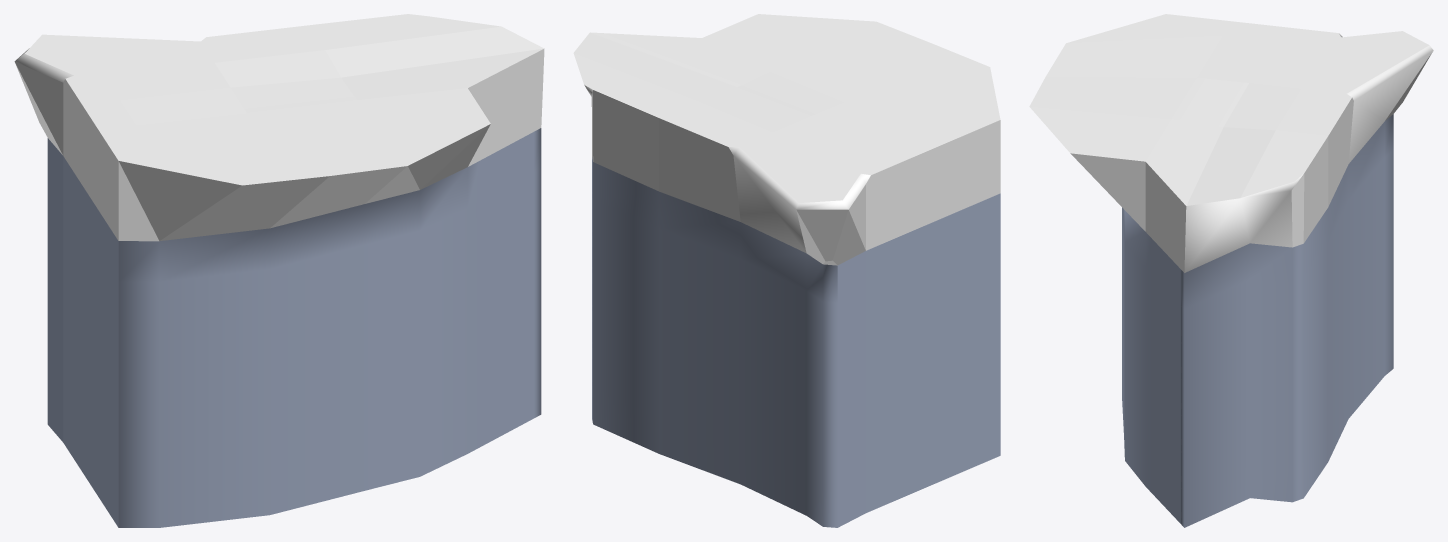
File: MAIN ISLAND TERRAIN3.fbx
3 renders of one model, left to right at view 1: azimuth 30°, elevation 25°; view 2: azimuth 150°, elevation 25°; view 3: azimuth 270°, elevation 25°, orthographic. The views are drawn at different scales.
Visible parts, largest first — view 1: MainIslandTerrain.002; view 2: MainIslandTerrain.002; view 3: MainIslandTerrain.002.
Part boxes in pixels (x1,y1,x2,y2): MainIslandTerrain.002: (14, 14, 544, 527); MainIslandTerrain.002: (573, 14, 1000, 527); MainIslandTerrain.002: (1029, 14, 1433, 527).
Bounding box in the file's own units: 4851 × 3902 × 4371.
